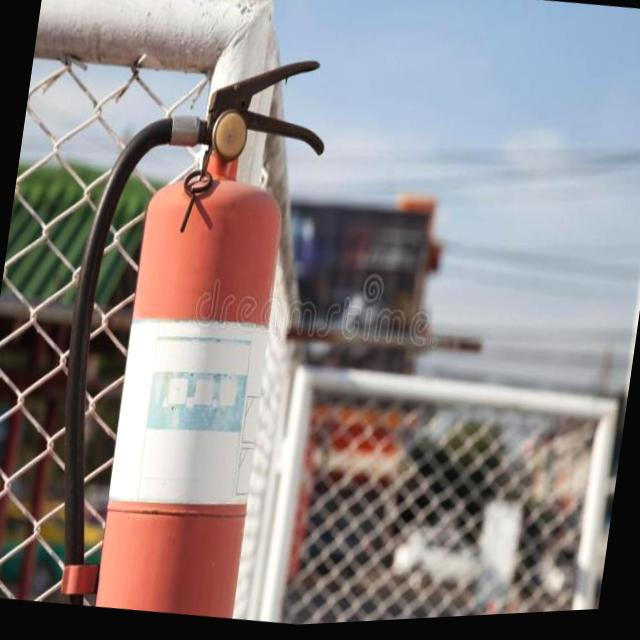FireExtinguisher: (29, 24, 343, 632)
